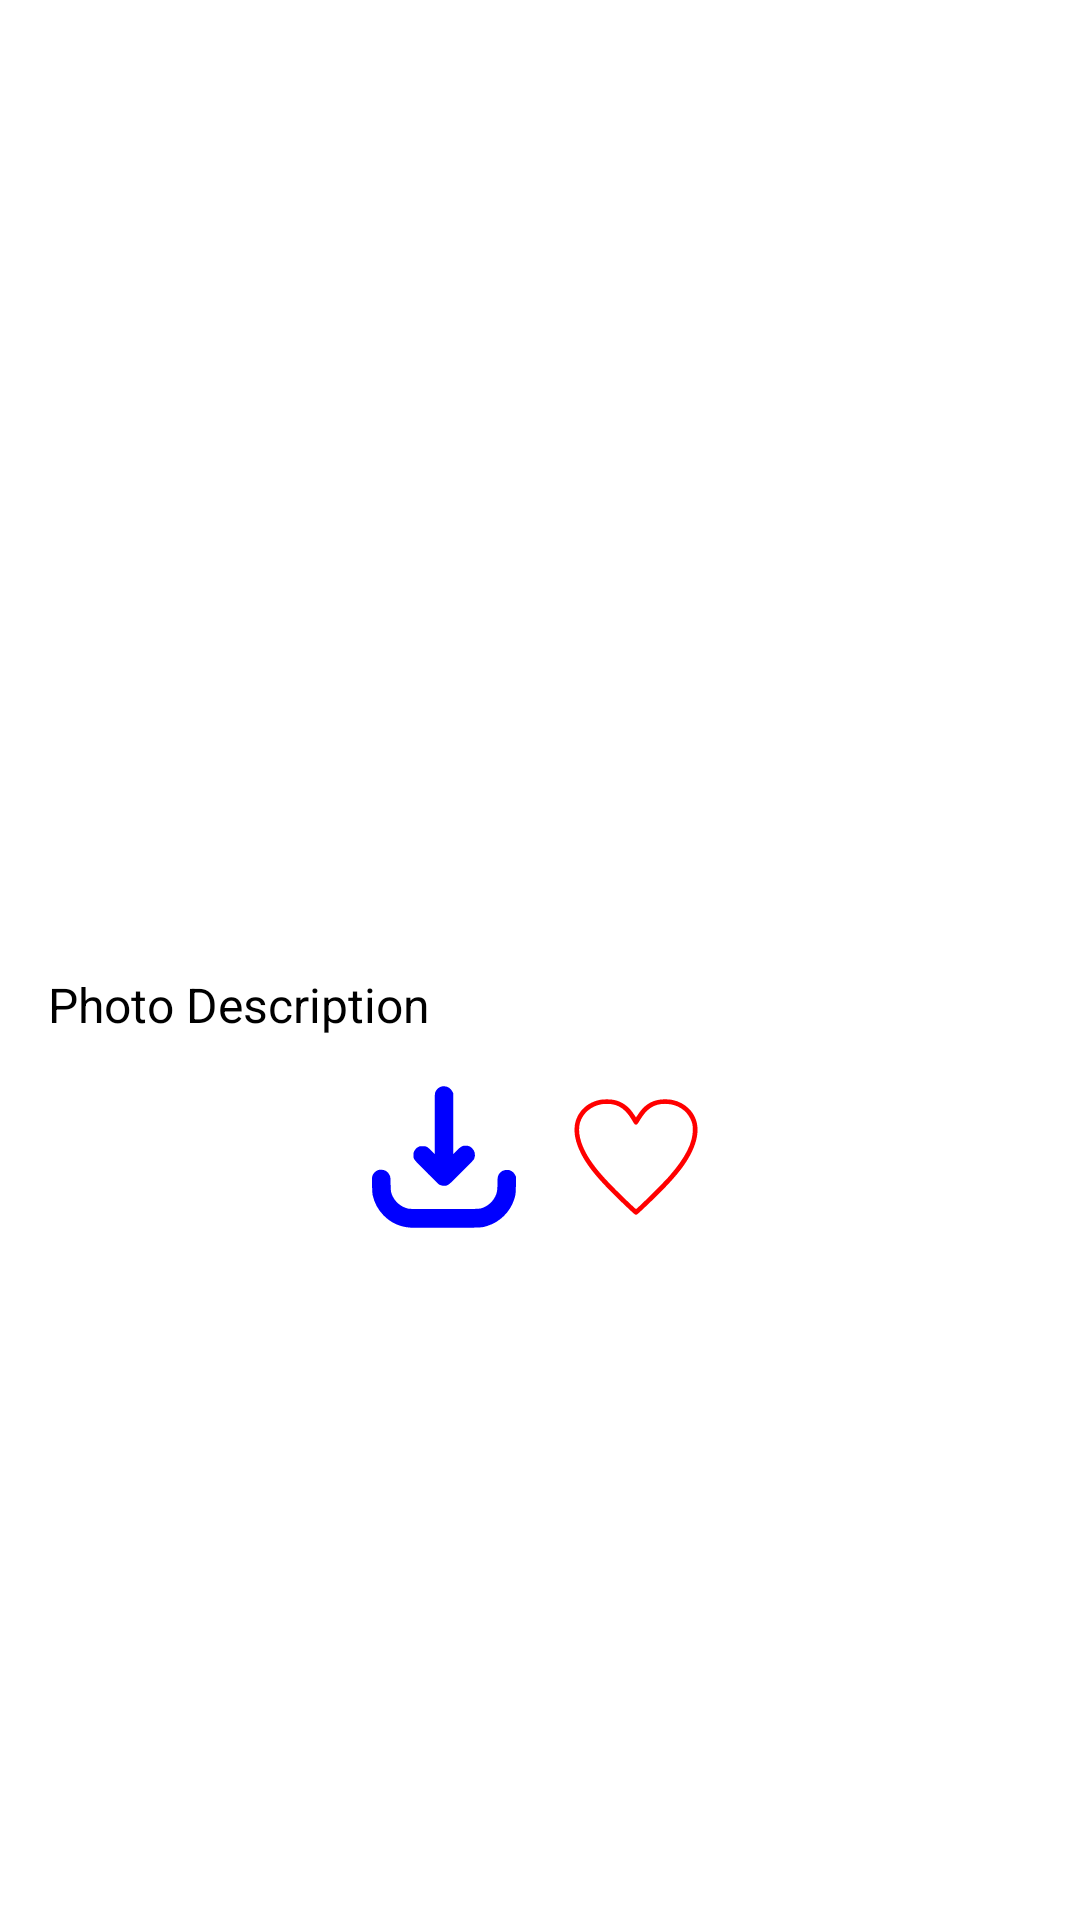

Where to tap for icons on this 1080*1920 app screen, as point (x, y):
download: point (444, 1157)
heartlinear: point (636, 1157)
